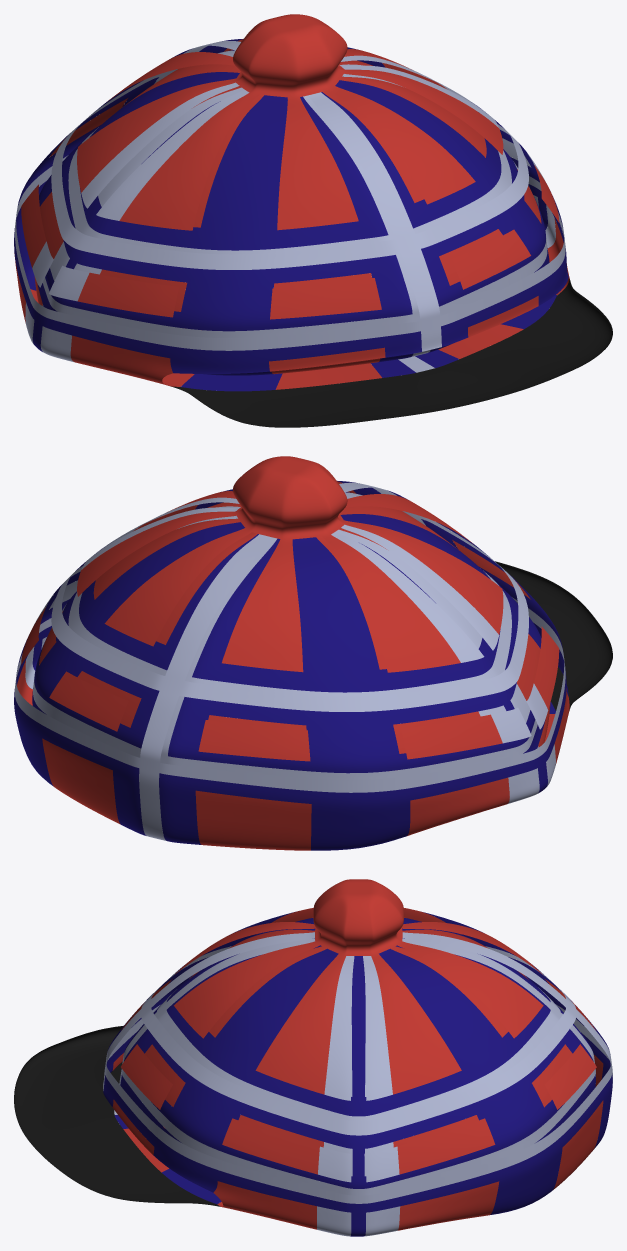
File: scottish-hat-3d-icon-985915896873.glb
3 views of the same model, one above another, from view 1: azimuth 30°, elevation 25°; view 2: azimuth 150°, elevation 25°; view 3: azimuth 270°, elevation 25° (orthographic). The views are drawn at different scales.
Parts seen in each view (by area): view 1: Hat 1, Hat 3, Hat 2, Visor; view 2: Hat 1, Hat 3, Hat 2, Visor; view 3: Hat 1, Hat 3, Hat 2, Visor.
Boxes of the visible parts, x1,y1,x2,y2 form: Hat 1: [14, 14, 569, 389]; Hat 3: [14, 39, 568, 391]; Hat 2: [14, 41, 565, 372]; Visor: [168, 279, 612, 427]; Hat 1: [17, 456, 569, 850]; Hat 3: [14, 481, 568, 850]; Hat 2: [14, 482, 565, 840]; Visor: [495, 561, 612, 710]; Hat 1: [112, 879, 603, 1230]; Hat 3: [103, 911, 612, 1236]; Hat 2: [103, 932, 612, 1236]; Visor: [14, 1026, 220, 1206].
Size of the model in its own units: 1.97 by 1.03 by 2.24.
